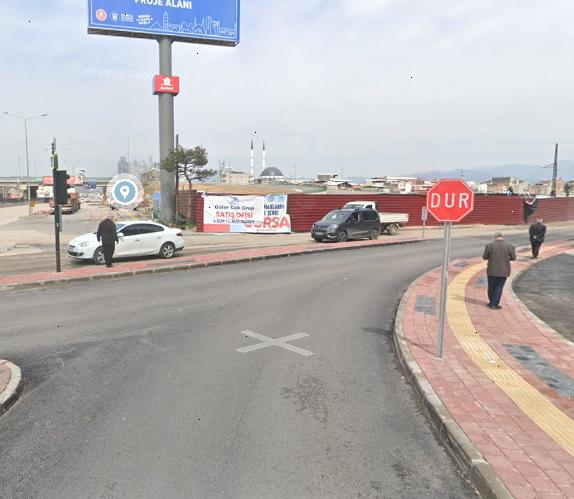stop: (425, 180, 474, 219)
